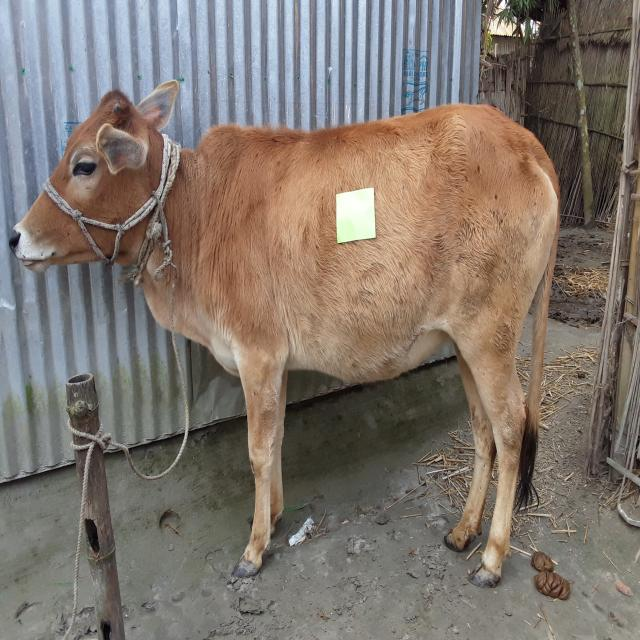badan_sapi: (233, 127, 531, 376)
sapi: (4, 71, 568, 588)
